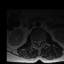CCS_normal: (38, 39, 39, 47)
LFS_stenosis: (41, 38, 43, 43)
LLS_normal: (40, 38, 41, 44)
RFS_stenosis: (34, 39, 36, 44)
RLS_normal: (36, 39, 38, 45)
